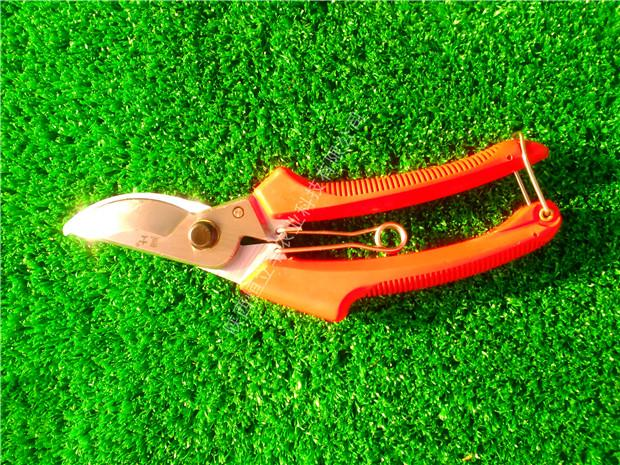scissor: (65, 114, 565, 334)
